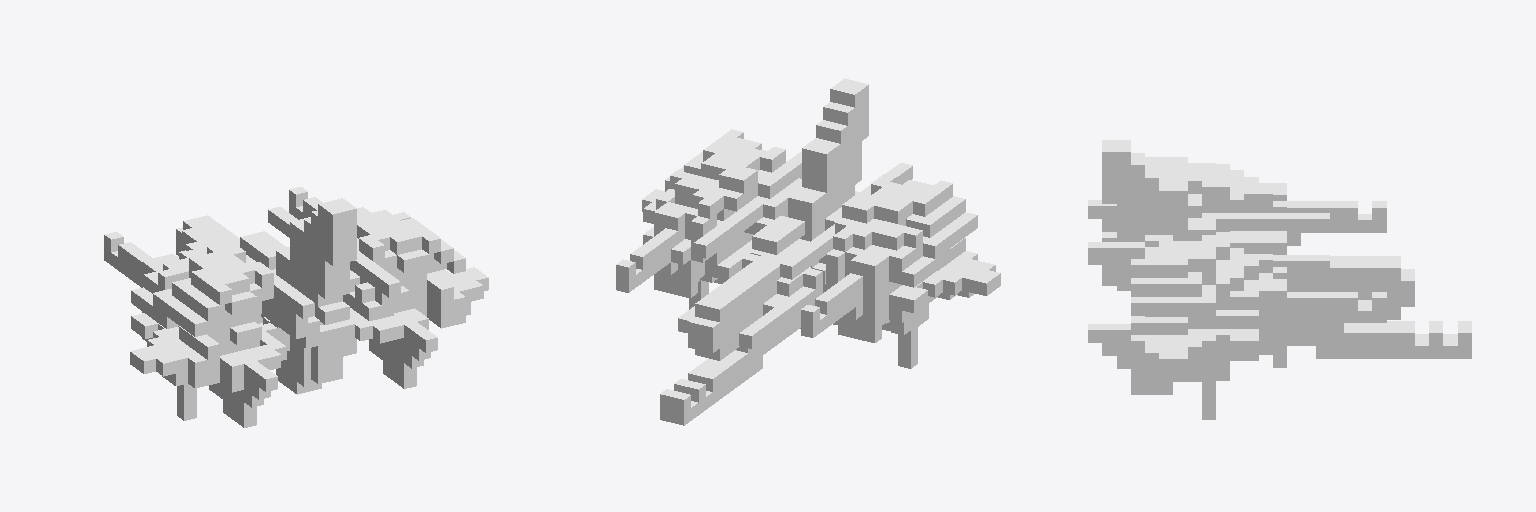
File: user.obj
The picture shows the model from 3 angles: view 1: azimuth 30°, elevation 25°; view 2: azimuth 150°, elevation 25°; view 3: azimuth 270°, elevation 25°; orthographic projection.
Visible parts, largest first — view 1: NOName; view 2: NOName; view 3: NOName.
Boxes of the visible parts, box(x1,y1,x2,y2) form: NOName: box(104, 187, 488, 427); NOName: box(616, 78, 1000, 425); NOName: box(1088, 140, 1471, 419).
Size of the model in its own units: 2.8 by 1.7 by 2.7.